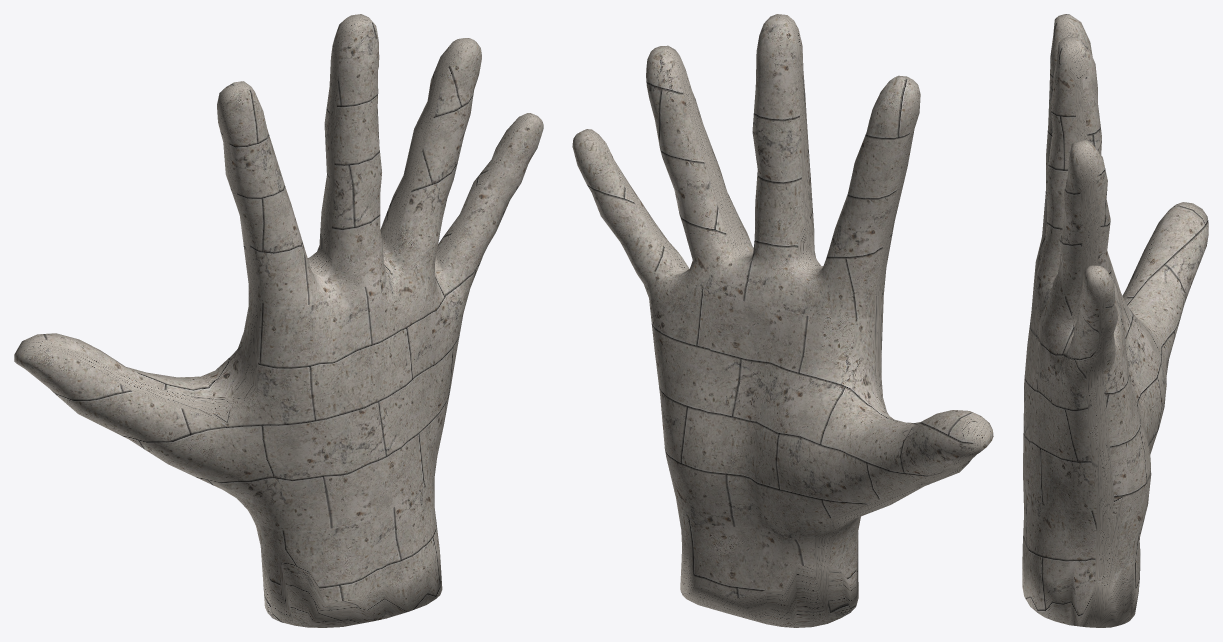
Rendered from hand3.fbx.
The picture shows the model from 3 angles, left to right: view 1: azimuth 30°, elevation 25°; view 2: azimuth 150°, elevation 25°; view 3: azimuth 270°, elevation 25°; orthographic projection. The views are drawn at different scales.
Parts seen in each view (by area): view 1: hand3; view 2: hand3; view 3: hand3.
Part boxes in pixels (left/top/right/bottom): hand3: left=14, top=14, right=543, bottom=627; hand3: left=572, top=14, right=993, bottom=627; hand3: left=1022, top=14, right=1208, bottom=627.
Bounding box in the file's own units: 1793 × 2130 × 651.
Materials: 1 (1 with a texture image).
